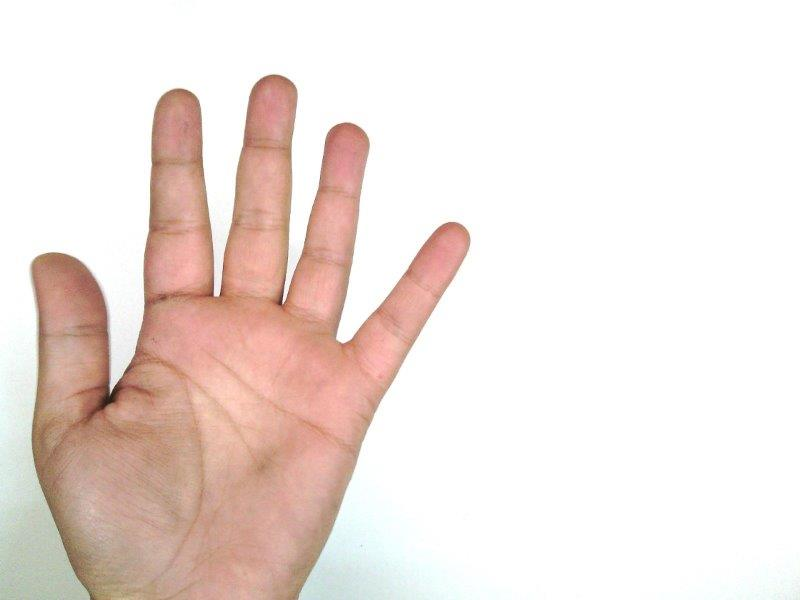hand: (32, 76, 469, 589)
